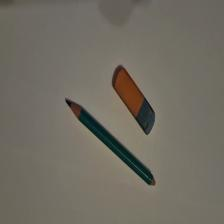eraser: (114, 68, 157, 137)
pencil: (66, 101, 156, 188)
